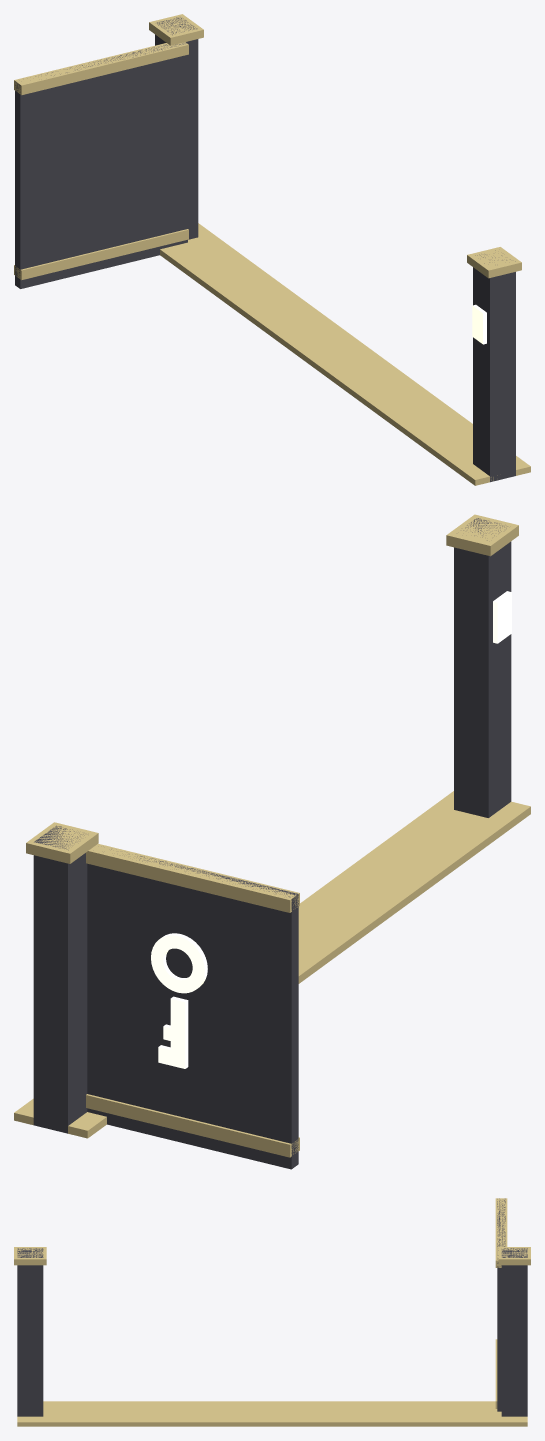
The model's file is bb_set_hohdoor.fbx.
3 views of the same model, one above another, from view 1: azimuth 30°, elevation 25°; view 2: azimuth 150°, elevation 25°; view 3: azimuth 270°, elevation 25° (orthographic). The views are drawn at different scales.
Parts seen in each view (by area): view 1: bb_set_hohdoor; view 2: bb_set_hohdoor; view 3: bb_set_hohdoor.
Boxes of the visible parts, x1,y1,x2,y2 form: bb_set_hohdoor: [14, 14, 530, 485]; bb_set_hohdoor: [14, 514, 530, 1169]; bb_set_hohdoor: [14, 1198, 530, 1426].
Size of the model in its own units: 1.05 by 1.1 by 3.16.
